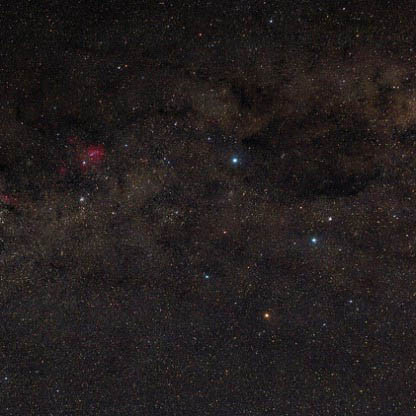Southern Cross: (303, 229, 328, 254), (252, 303, 276, 328), (221, 148, 242, 172), (199, 264, 216, 284)
